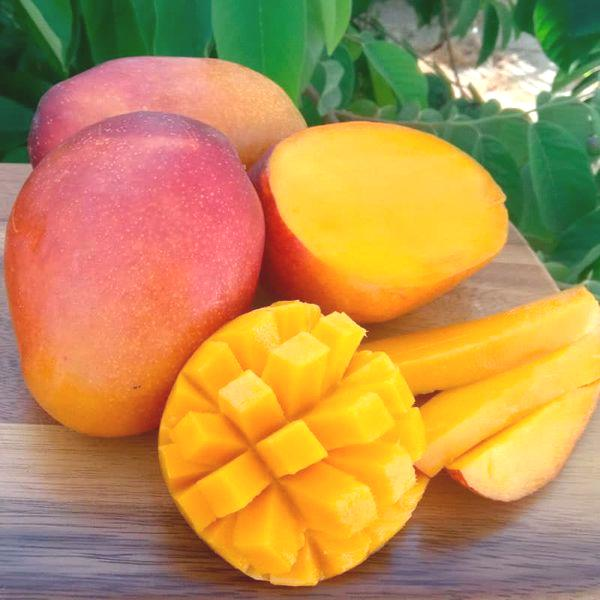Mango Unripe: (9, 88, 270, 442)
